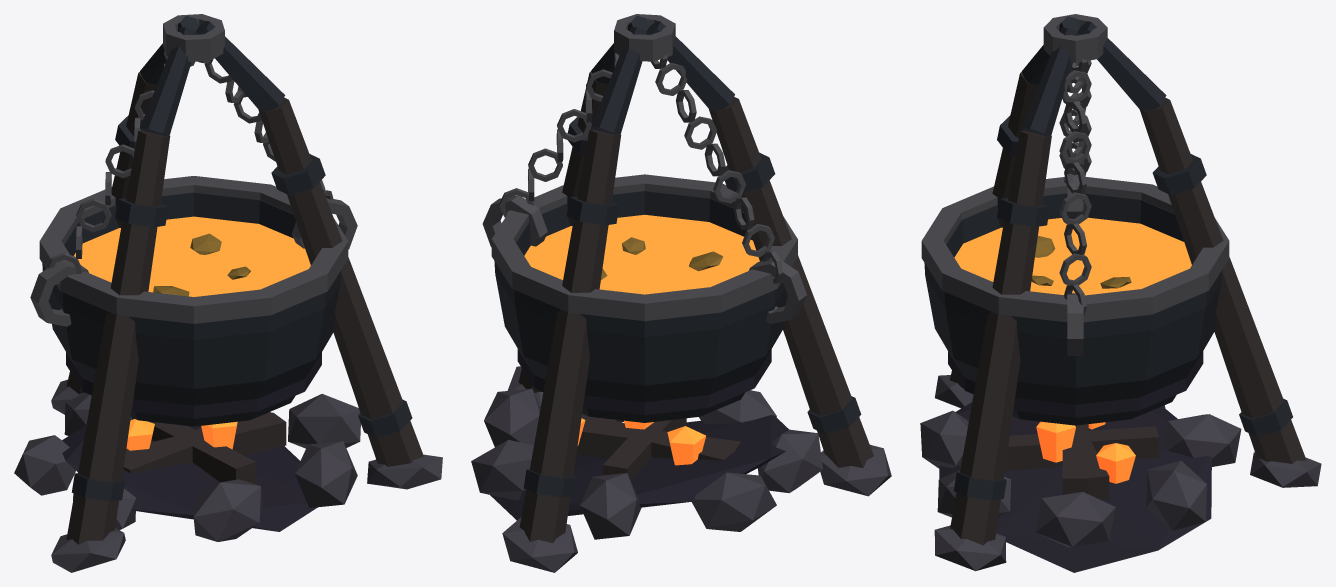
The model's file is Suspended_Cauldron.glb.
The picture shows the model from 3 angles, left to right: view 1: azimuth 30°, elevation 25°; view 2: azimuth 150°, elevation 25°; view 3: azimuth 270°, elevation 25°; orthographic projection.
Visible parts, largest first — view 1: Suspended_Cauldron; view 2: Suspended_Cauldron; view 3: Suspended_Cauldron.
Boxes of the visible parts, x1,y1,x2,y2 form: Suspended_Cauldron: [14, 14, 442, 572]; Suspended_Cauldron: [471, 14, 891, 572]; Suspended_Cauldron: [920, 14, 1321, 572].
Bounding box in the file's own units: 2.73 × 3.34 × 2.48.
